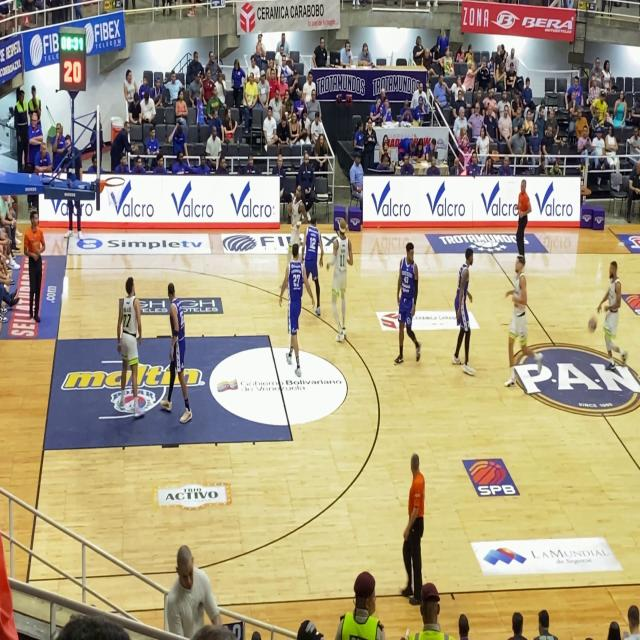Ball: (585, 318, 599, 337)
referee: (402, 449, 437, 603), (27, 196, 47, 320), (515, 171, 533, 269)
team1: (100, 265, 151, 420), (590, 243, 630, 380), (504, 248, 534, 382), (328, 208, 353, 334), (284, 175, 306, 239)
team2: (391, 232, 424, 372), (161, 277, 191, 427), (449, 235, 481, 372), (280, 238, 310, 379), (303, 200, 327, 320)
ubasket: (101, 174, 125, 204)
